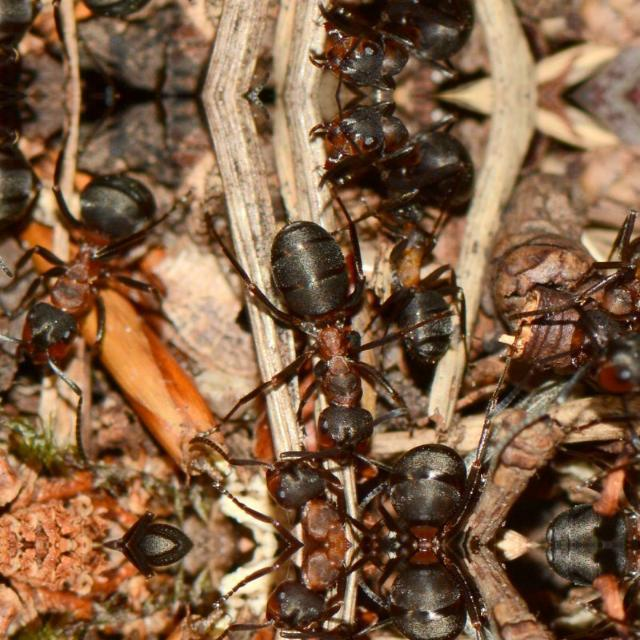Formica: (224, 209, 416, 463), (13, 145, 173, 399), (308, 95, 514, 217), (364, 404, 528, 544), (536, 204, 640, 420), (306, 0, 512, 94), (377, 169, 478, 357), (364, 544, 528, 640), (239, 440, 363, 544), (239, 544, 363, 640)
